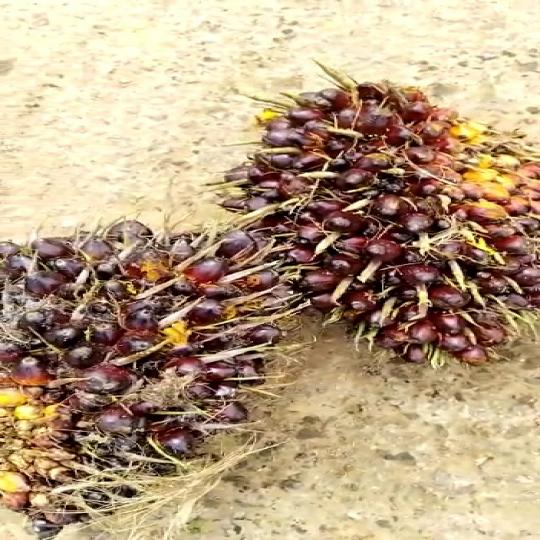kurang masak: (0, 206, 322, 540), (219, 70, 540, 381)
